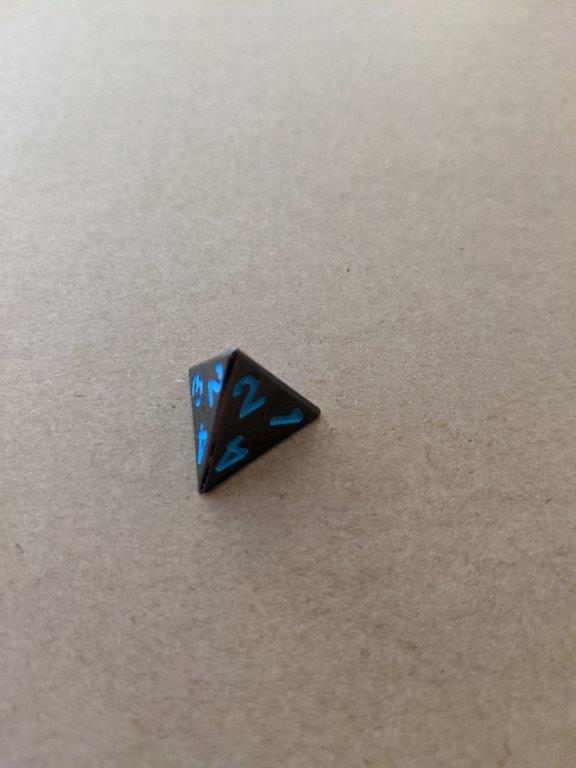d4-2: (181, 344, 322, 498)
